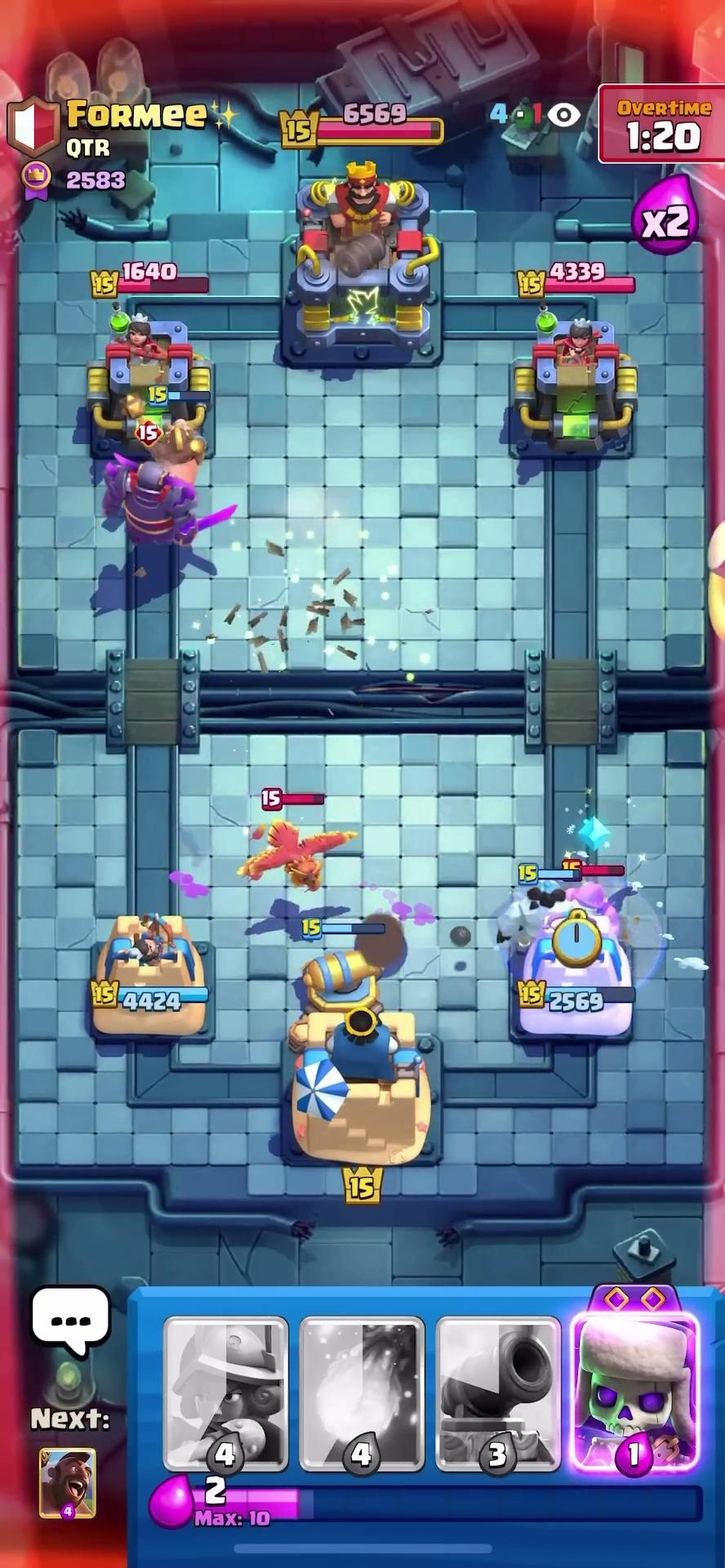cannon: (276, 911, 402, 1019)
ice_golem: (496, 864, 602, 949)
